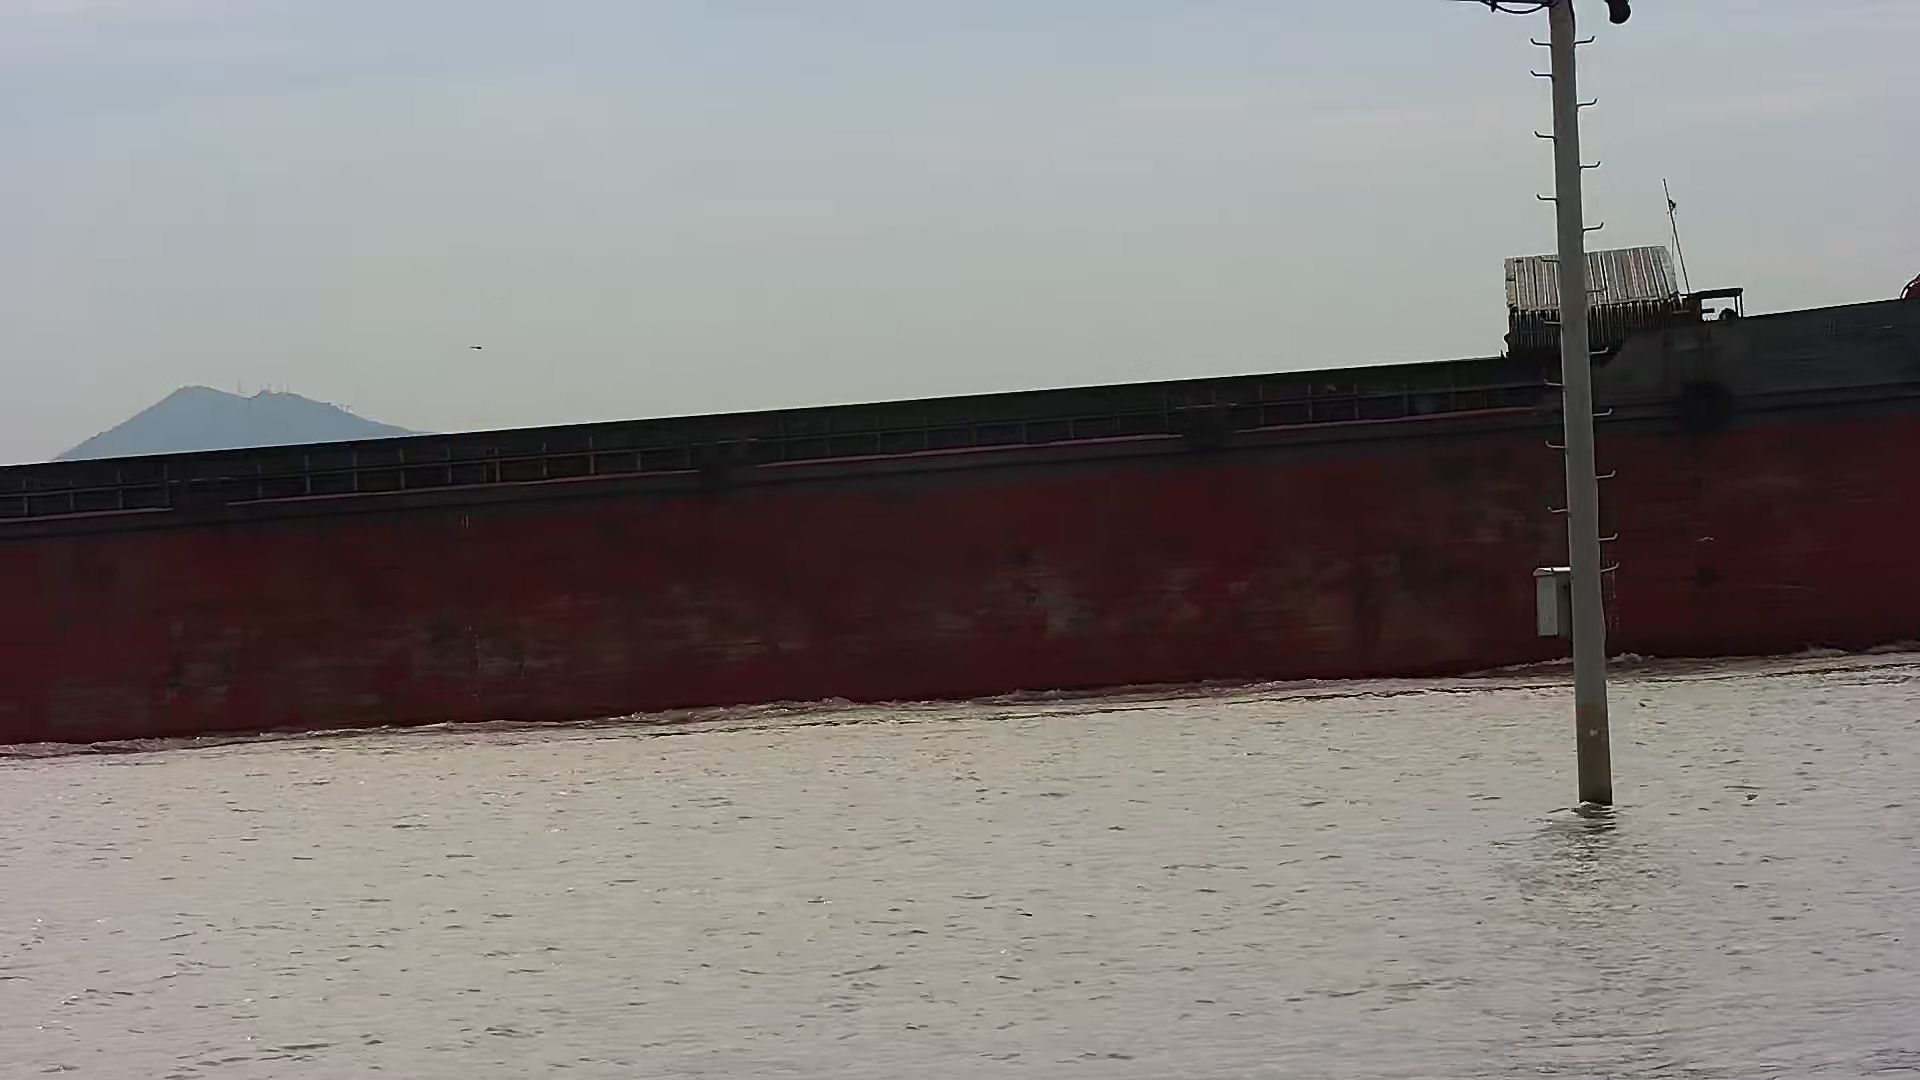mast: (1482, 3, 1633, 808)
ship: (1, 233, 1920, 753)
